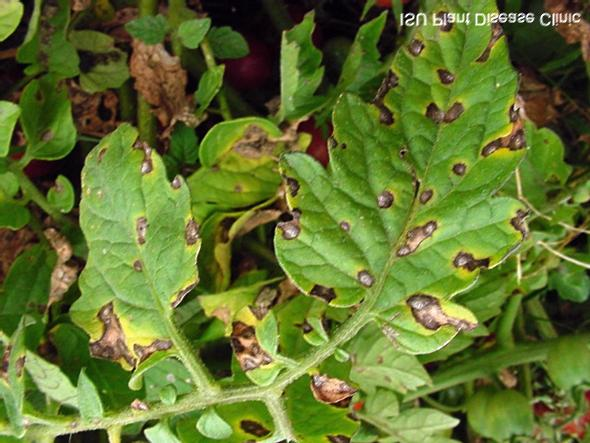Tomato leaf bacterial spot: (254, 26, 534, 343), (56, 89, 210, 390), (173, 104, 302, 227), (216, 302, 310, 395)
